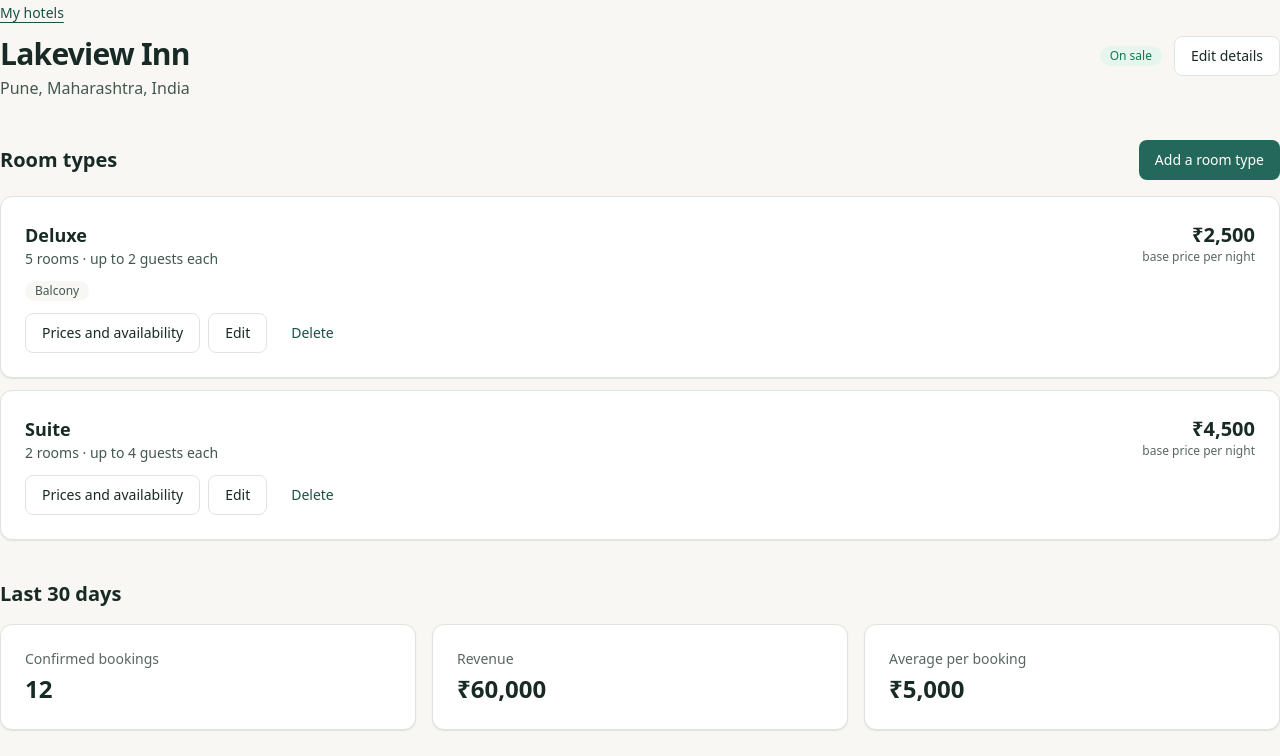
Test: room types › shows the server’s reason when a room type cannot be deleted
Click the button with aria-label "Delete Suite". click: (312, 495)
box: top-left (275, 475), bottom-right (350, 515)
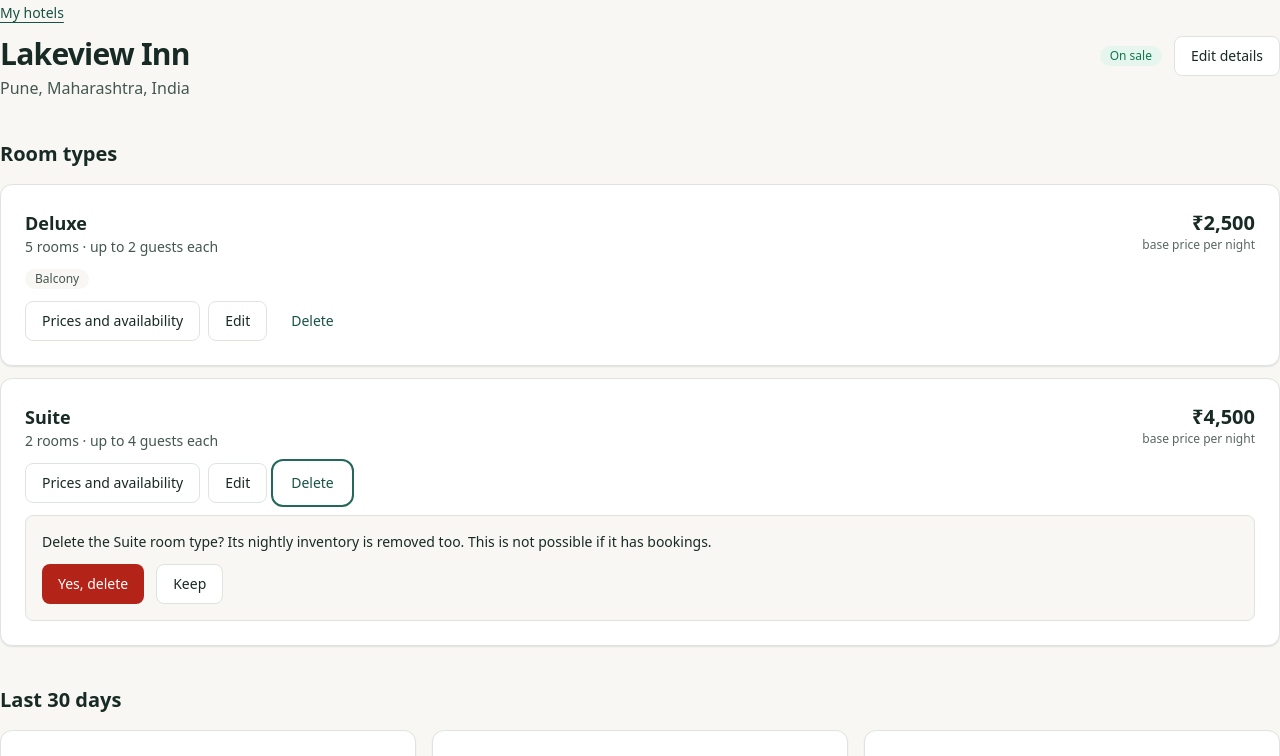
Click the button "Yes, delete". click: (93, 584)
box: top-left (42, 564), bottom-right (144, 604)
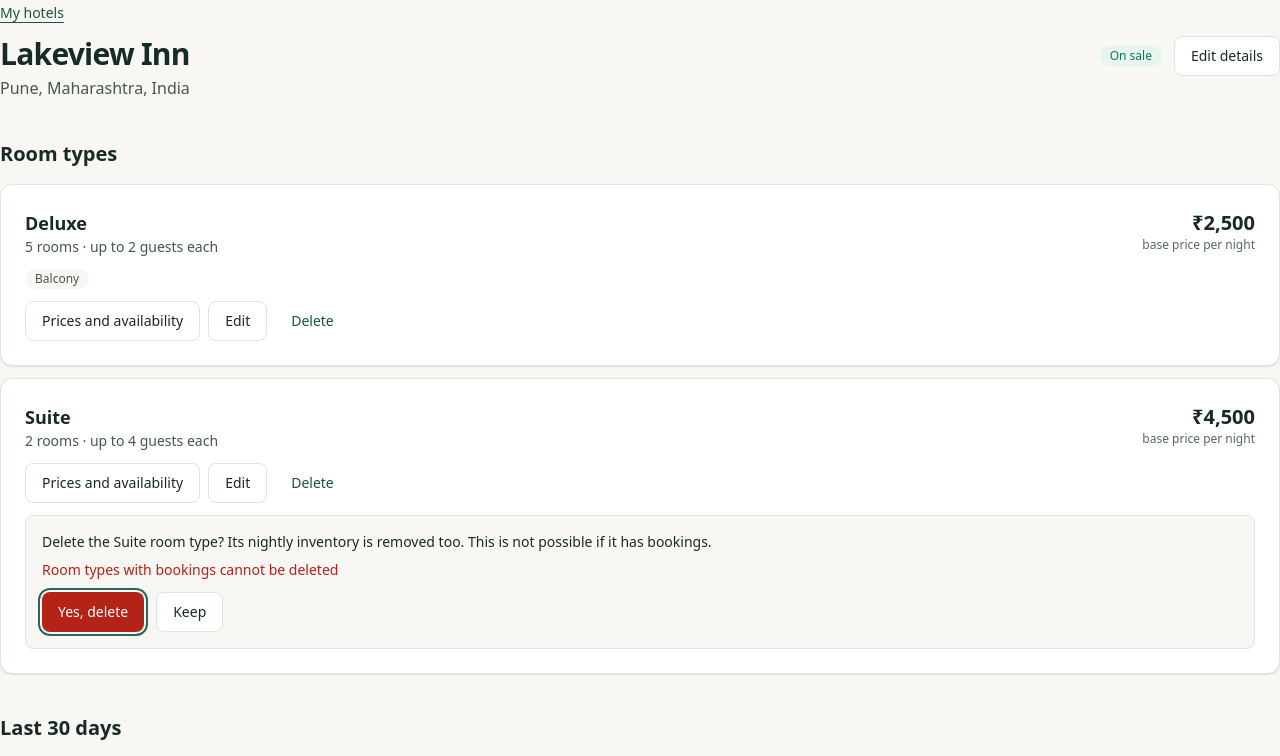
Result: the message reads "Room types with bookings cannot be deleted" at top-left (42, 560), bottom-right (338, 579)
